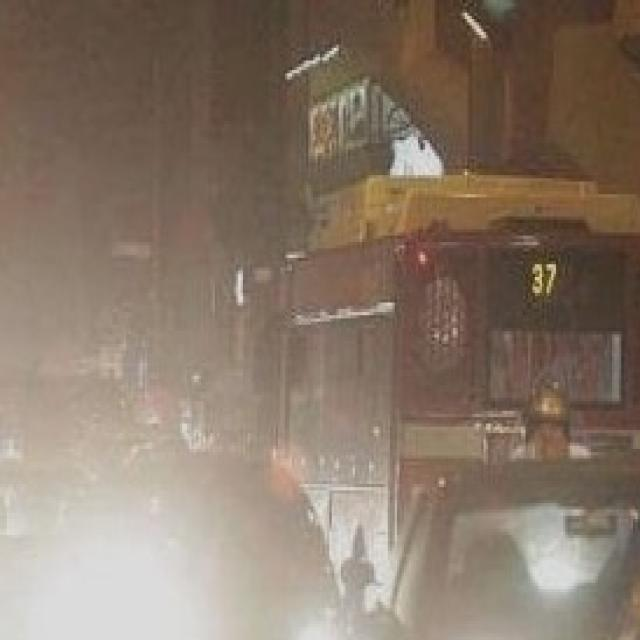bus: (252, 175, 640, 621)
car: (33, 439, 350, 640), (350, 458, 639, 640), (563, 484, 640, 640)
